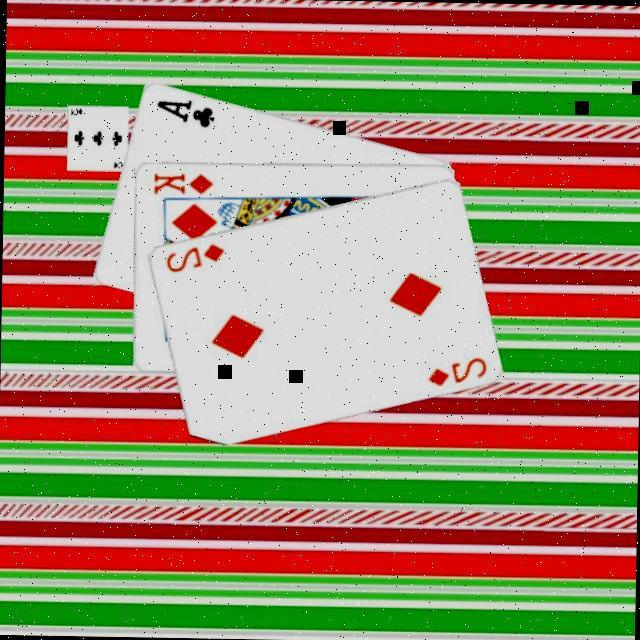2D: (160, 238, 225, 275), (422, 352, 487, 389)
AC: (150, 94, 215, 129)
KD: (148, 168, 214, 197)
